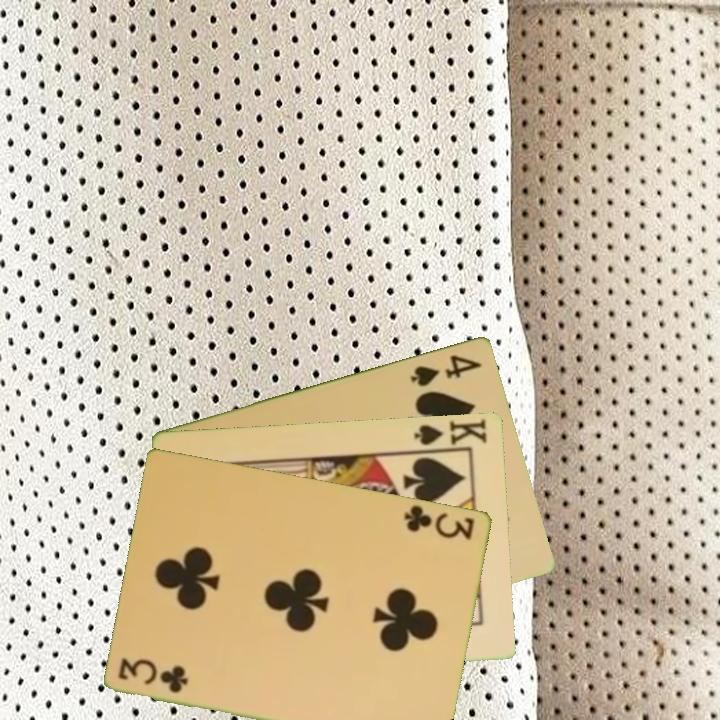3c: (401, 501, 478, 543), (115, 654, 192, 696)
4s: (407, 350, 485, 389)
Ks: (410, 415, 491, 455)
